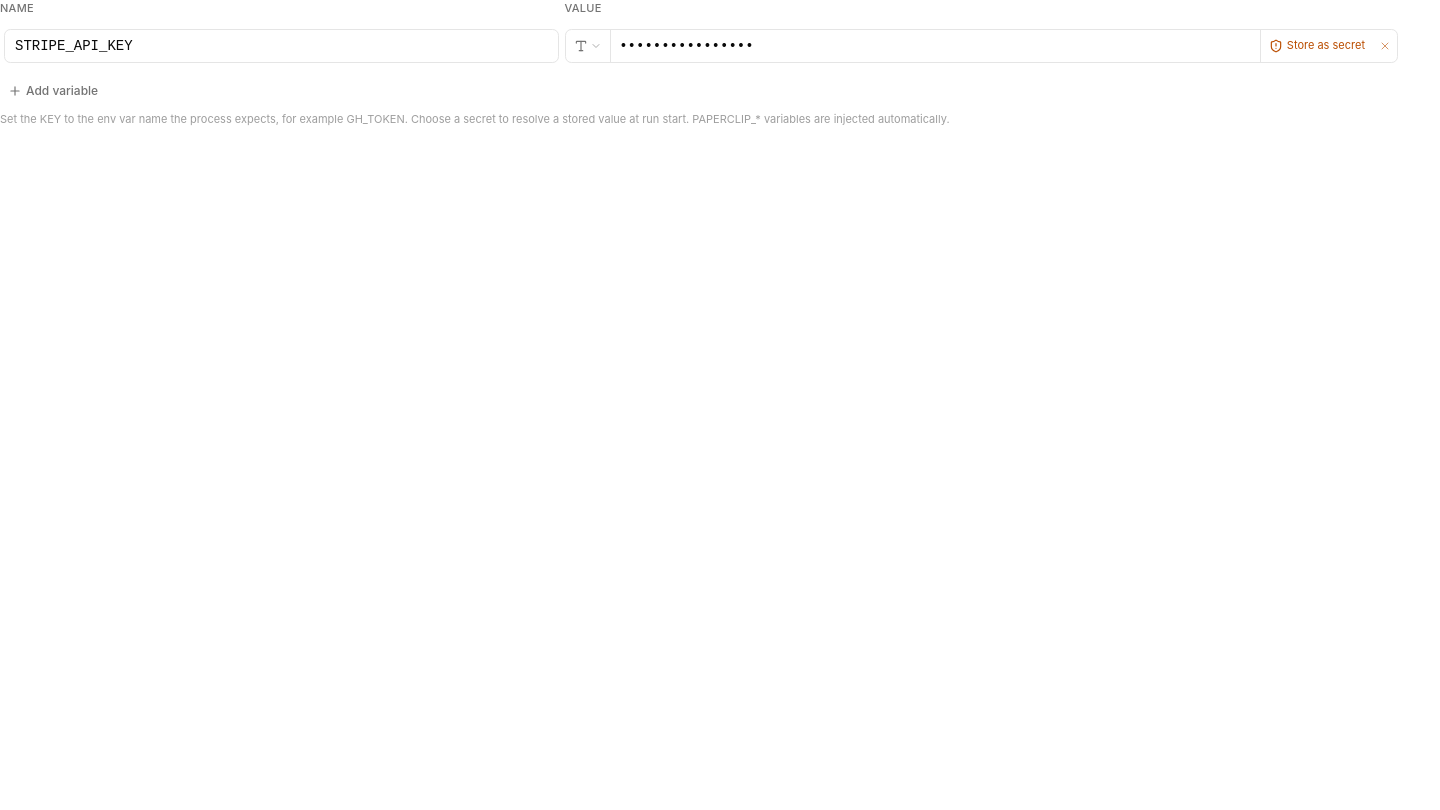
Test: EnvironmentVariablesEditor › auto-detects a sensitive value and offers a value-preserving Store-as-secret popover
Click the button "Store as secret": (1317, 46) 1261,30 -> 1373,62
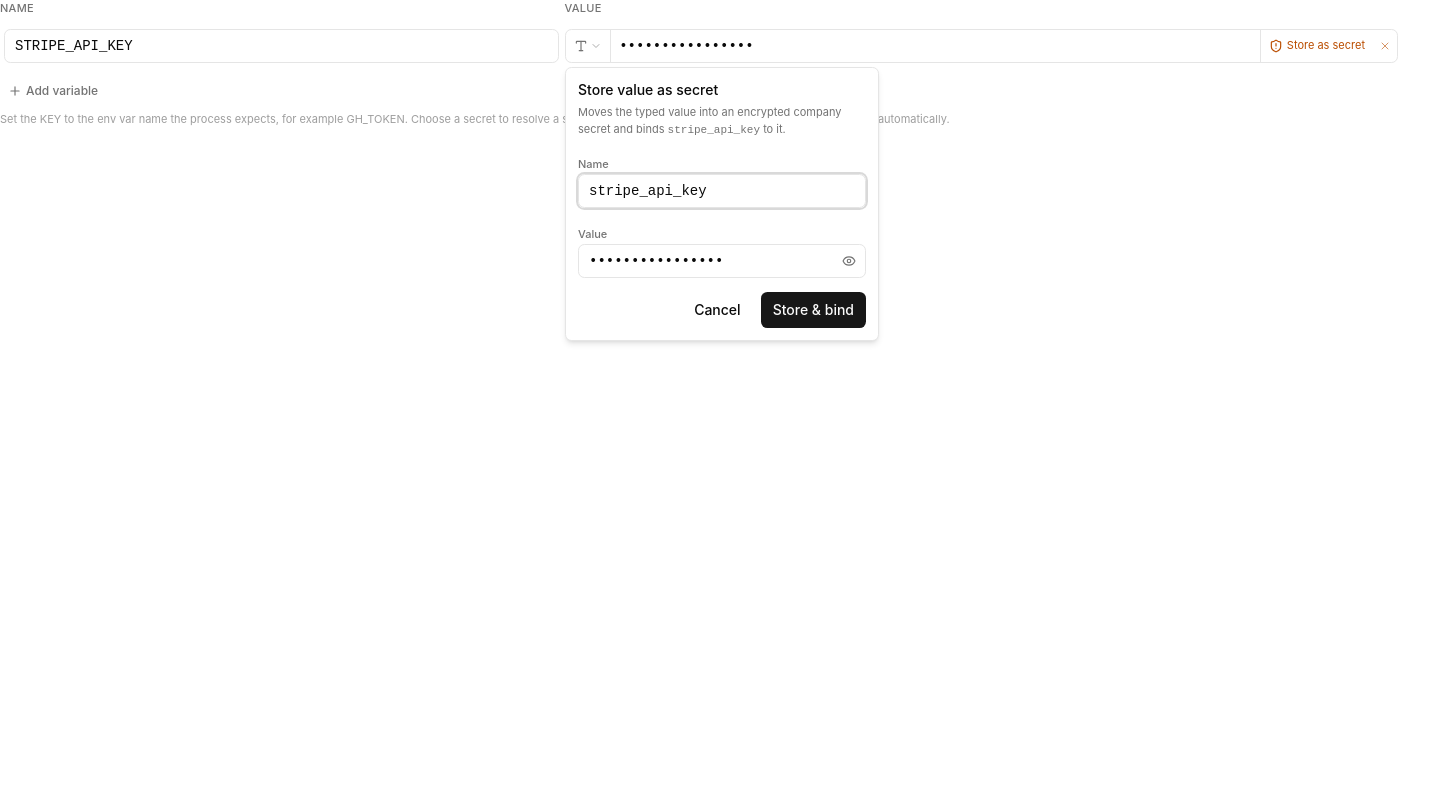
Expected: the text "Store value as secret" is shown, 578,81 -> 718,98
Expected: the password field named "Secret value" holds "supersecretvalue", 578,244 -> 866,278
